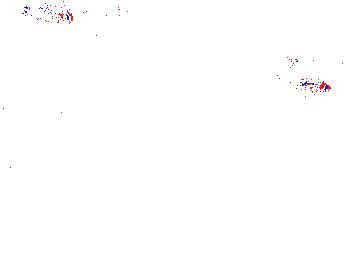red belly glassfish: (19, 4, 75, 28), (274, 74, 333, 96)
redtail glassfish: (52, 1, 133, 23), (282, 50, 346, 72)
